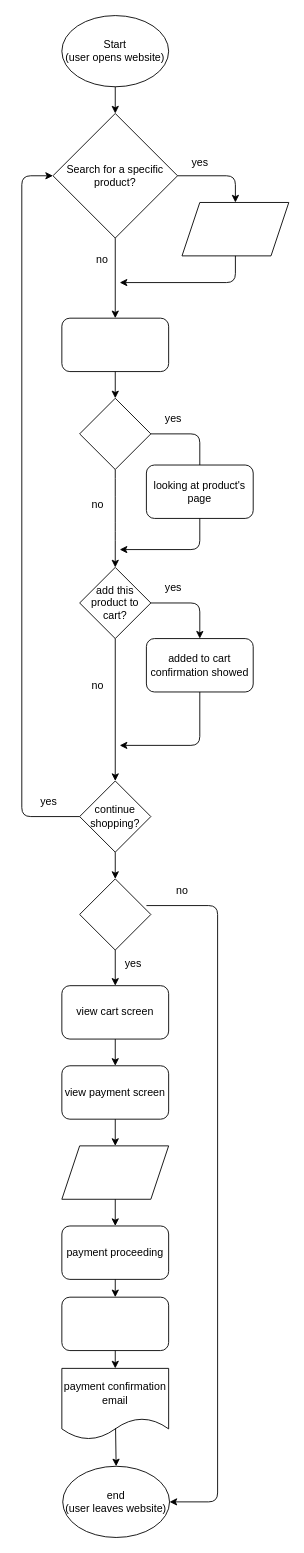
This 304x1553 diagram has some shape labels left out. The box of each missing label's shape, as (x1, y1, x2, y2) in pixels:
checkout?: (79, 878, 151, 950)
confirmation screen: (61, 1296, 169, 1351)
input search: (181, 202, 289, 256)
looking over products: (61, 317, 169, 372)
payment information: (61, 1145, 169, 1199)
view this product?: (79, 397, 151, 469)
